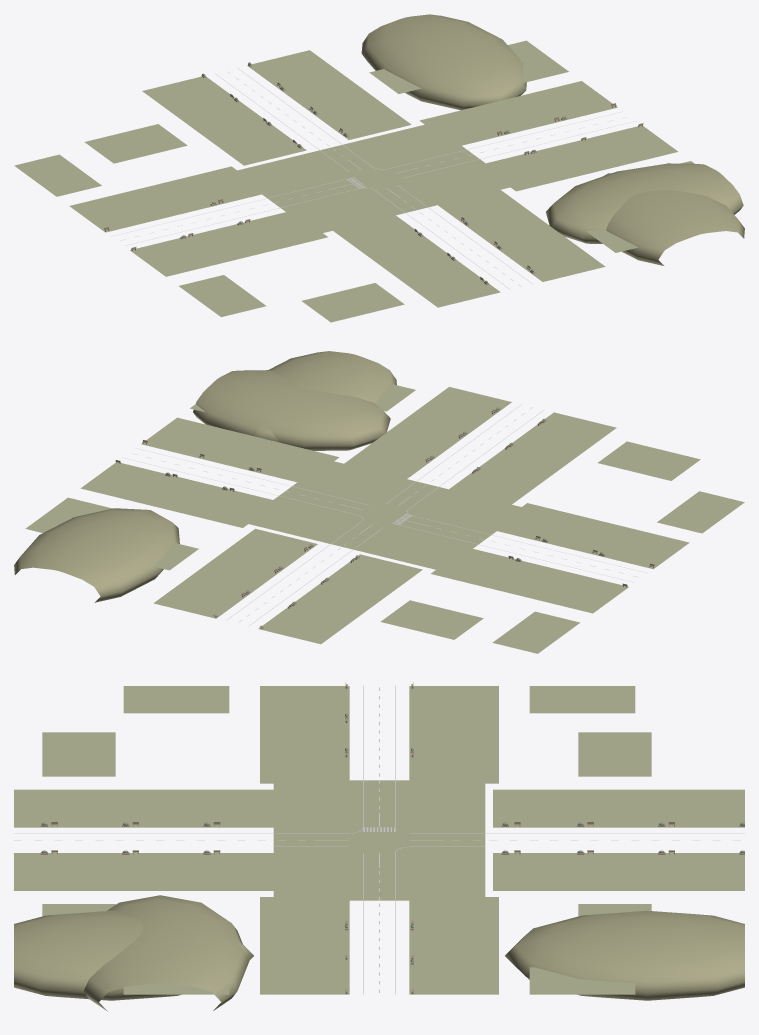
3 renders of one model, top to bottom at view 1: azimuth 30°, elevation 25°; view 2: azimuth 150°, elevation 25°; view 3: azimuth 270°, elevation 25°, orthographic. The views are drawn at different scales.
Parts seen in each view (by area): view 1: static; view 2: static; view 3: static.
Part boxes in pixels (x1,y1,x2,y2): static: (14,14,744,322); static: (14,351,744,653); static: (14,682,744,1011).
Size of what is drawn, in the model's own units: 180 by 14.08 by 180.
